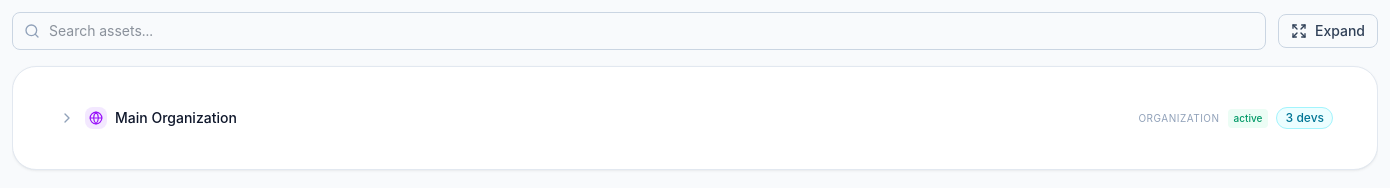
Test: AssetTree › Должен переключиться на Collapse после клика Expand
Step 1. Click the button "Expand" → coordinates (1328, 31), box [1278,14,1378,48]
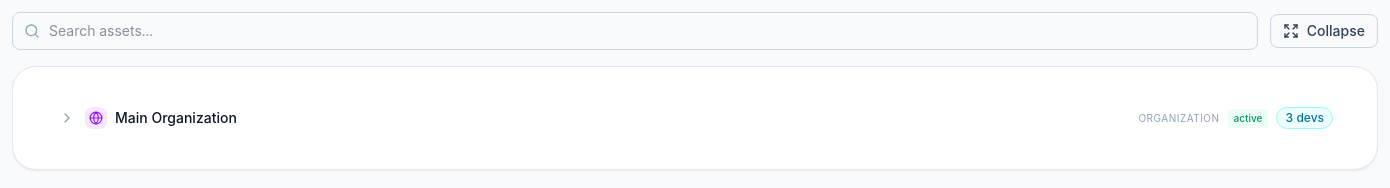
Result: the button "Collapse" is shown at [1270,14,1378,48]
